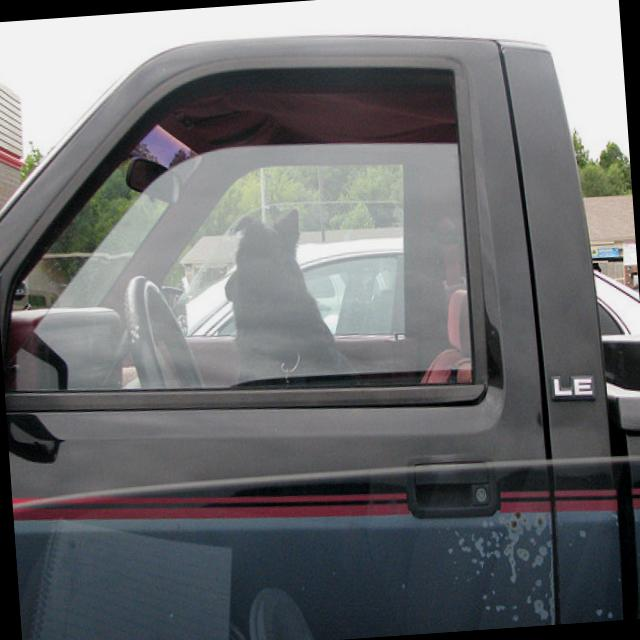Vehicle: (0, 0, 640, 640), (180, 229, 412, 351), (596, 267, 640, 465)
